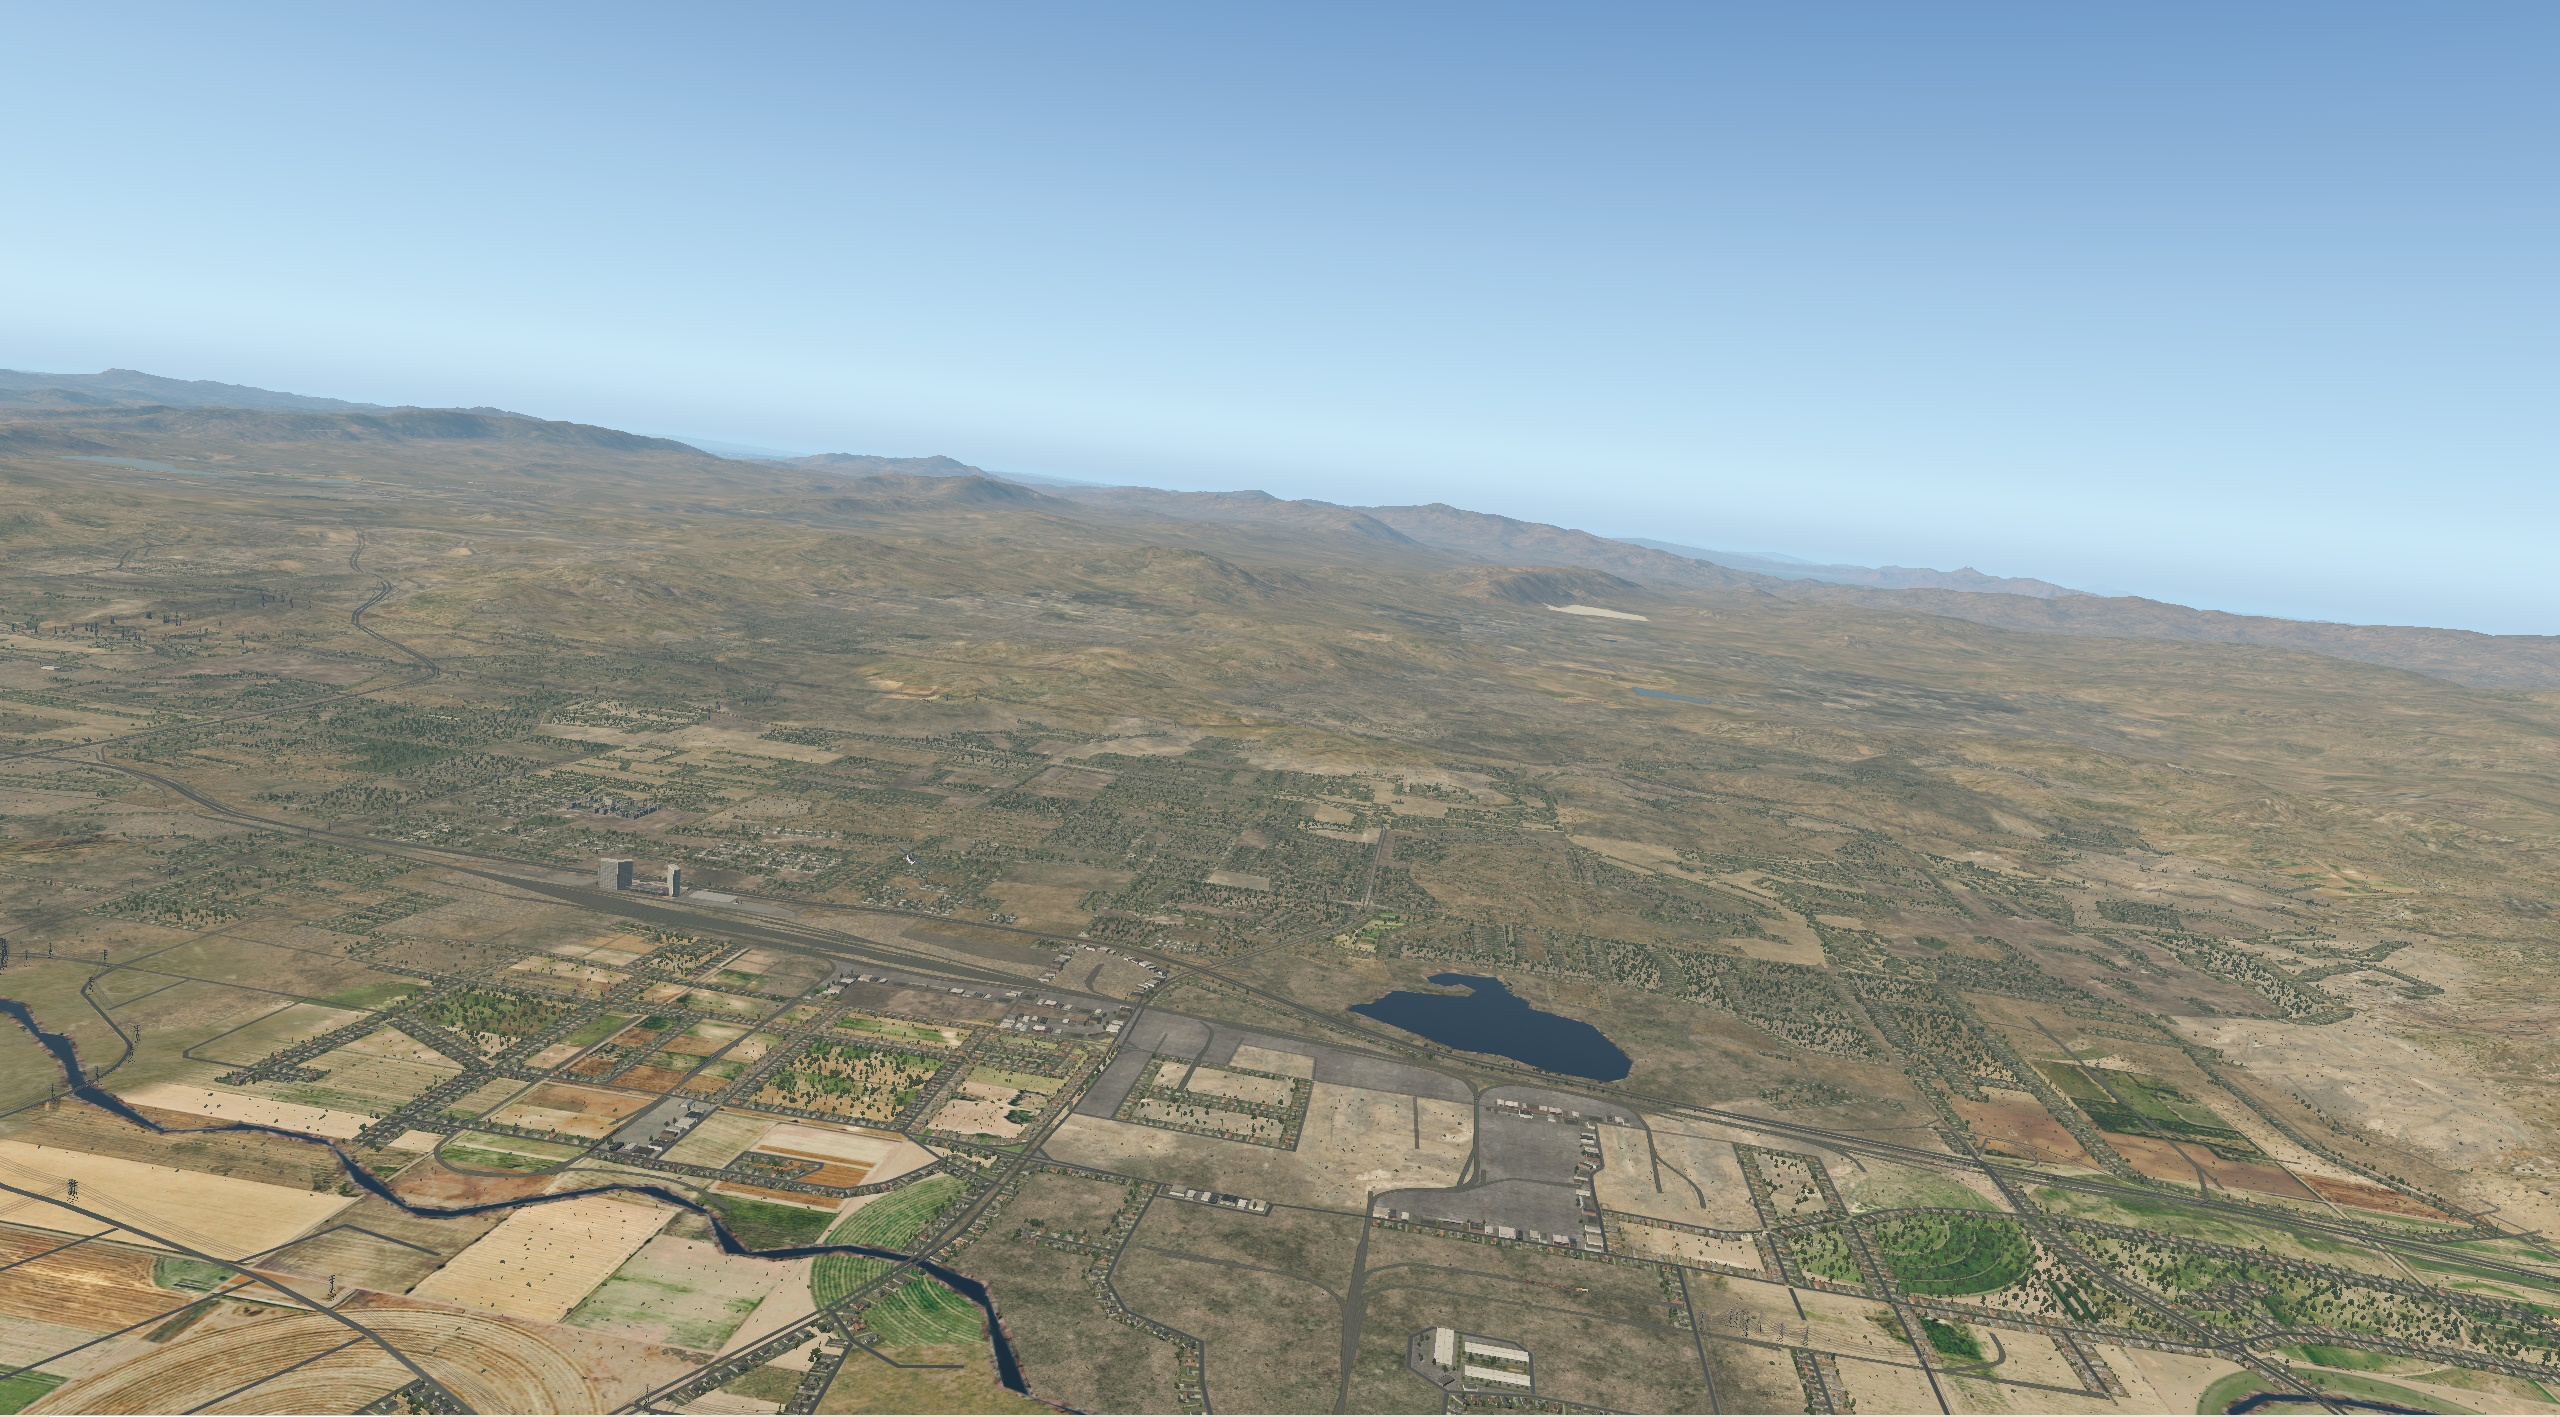aircraft: (886, 850, 934, 866)
